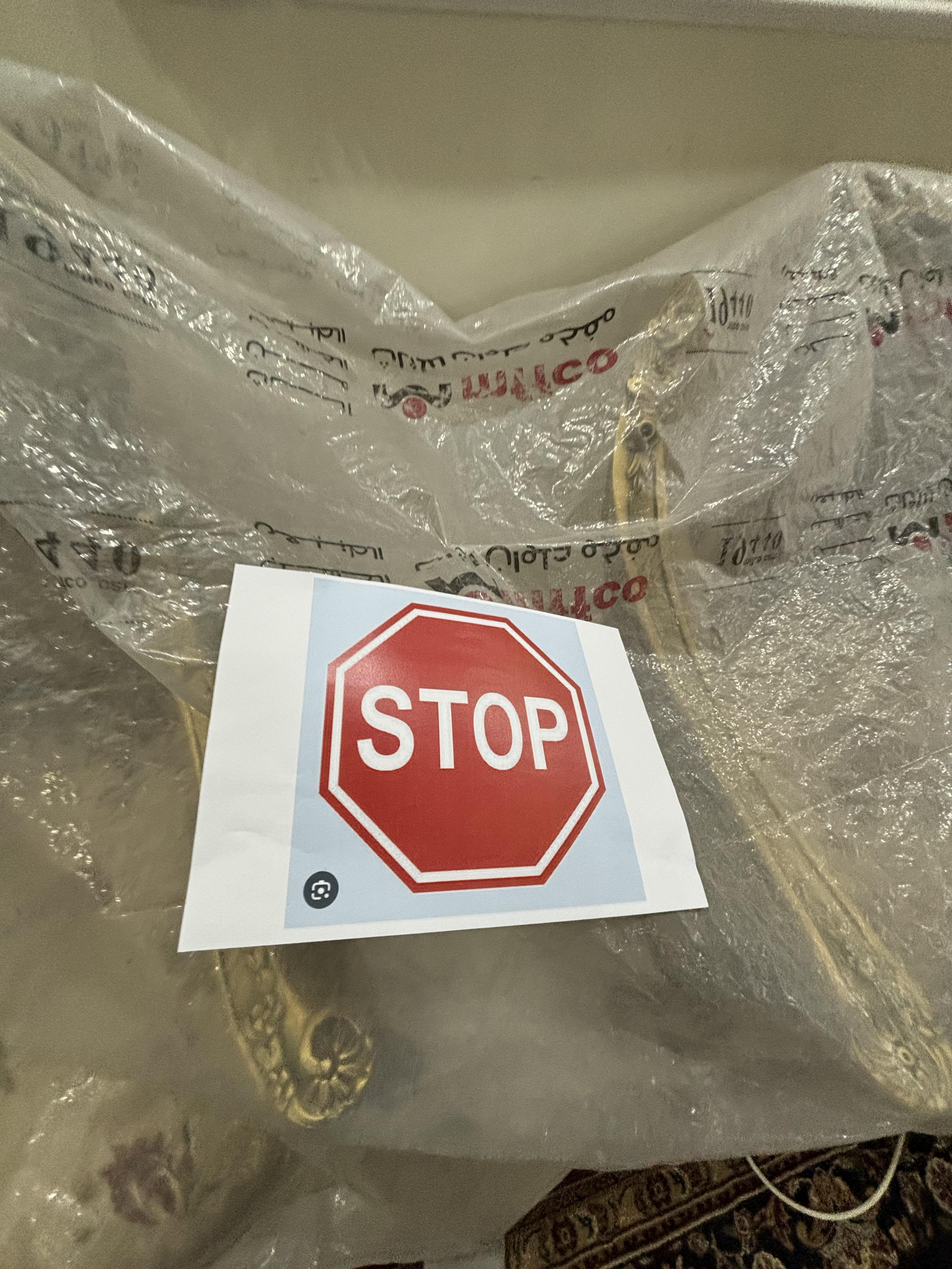Stop: (309, 608, 608, 913)
